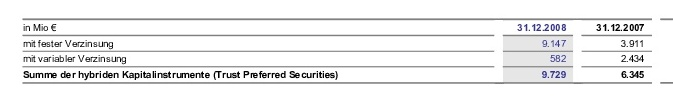table: (0, 0, 673, 109)
